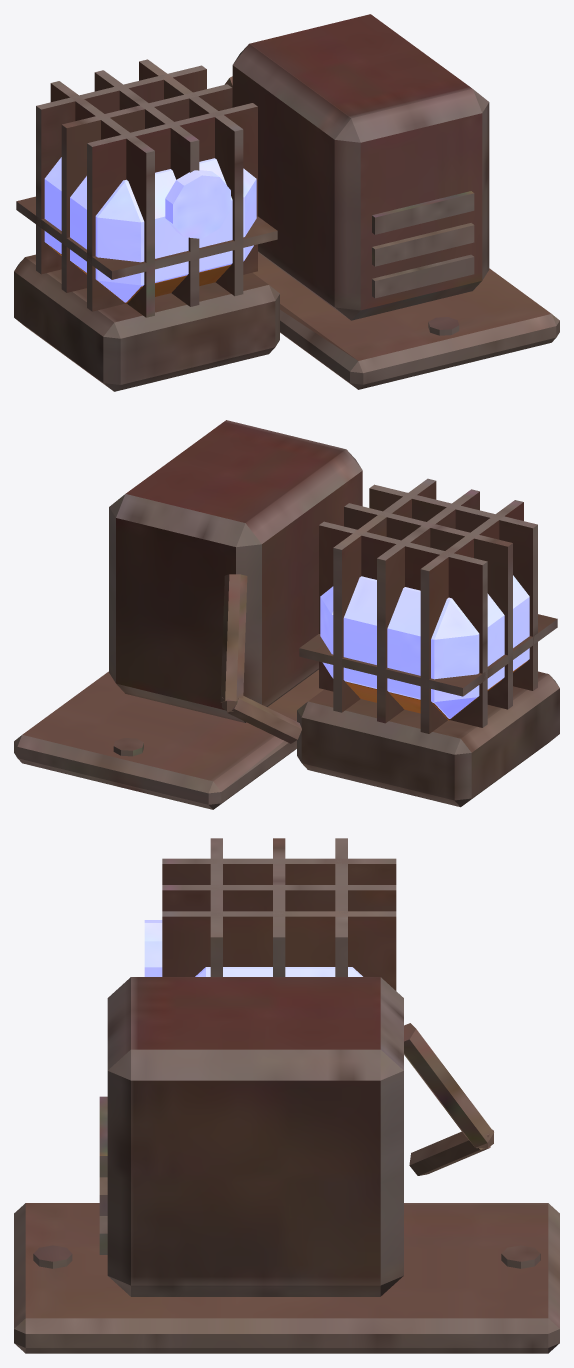
The model's file is rail-chain-signal.glb.
3 renders of one model, top to bottom at view 1: azimuth 30°, elevation 25°; view 2: azimuth 150°, elevation 25°; view 3: azimuth 270°, elevation 25°, orthographic. The views are drawn at different scales.
Visible parts, largest first — view 1: body, anim_lit_blue; view 2: body, anim_lit_blue; view 3: body, anim_lit_blue.
Part boxes in pixels (box(x1,y1,x2,y2)): body: box(14, 14, 559, 391); anim_lit_blue: box(44, 157, 256, 302); body: box(14, 420, 559, 809); anim_lit_blue: box(320, 575, 529, 718); body: box(14, 838, 559, 1353); anim_lit_blue: box(144, 920, 362, 976).
Size of the model in its own units: 0.72 by 0.405 by 0.7.
5 materials, 5 textured.
